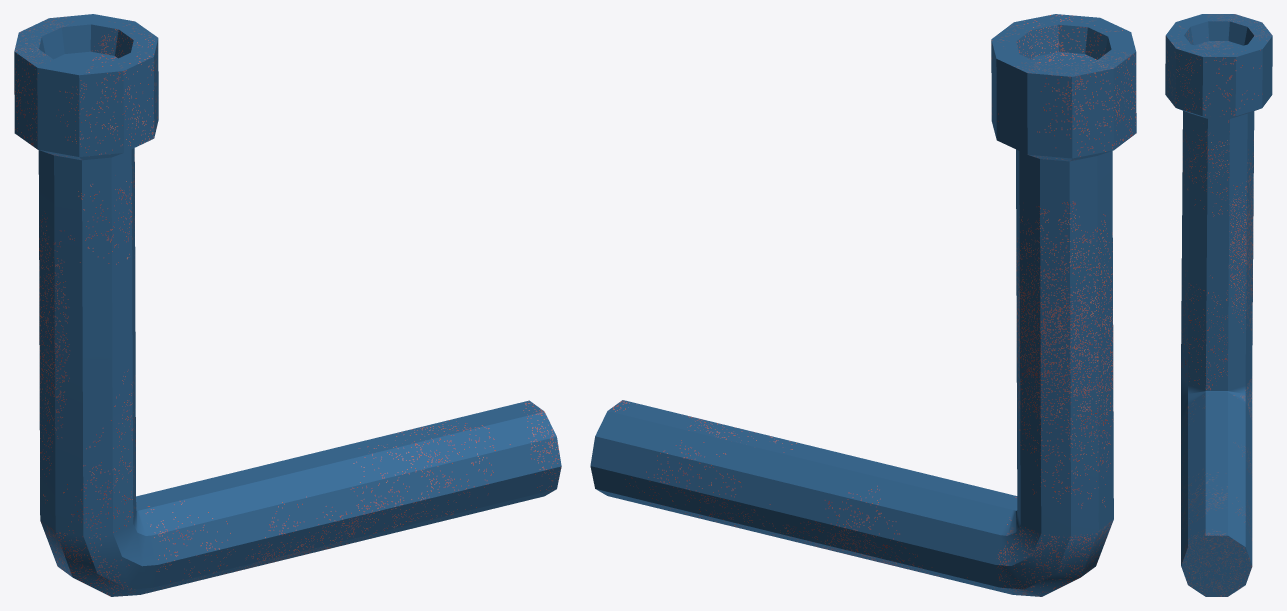
The model's file is L pipe.fbx.
3 renders of one model, left to right at view 1: azimuth 30°, elevation 25°; view 2: azimuth 150°, elevation 25°; view 3: azimuth 270°, elevation 25°, orthographic. The views are drawn at different scales.
Visible parts, largest first — view 1: pCylinder1; view 2: pCylinder1; view 3: pCylinder1.
Boxes of the visible parts, x1,y1,x2,y2 form: pCylinder1: (14, 14, 561, 596); pCylinder1: (590, 14, 1136, 596); pCylinder1: (1165, 14, 1272, 596).
Bounding box in the file's own units: 6.52 × 6.78 × 1.64.
